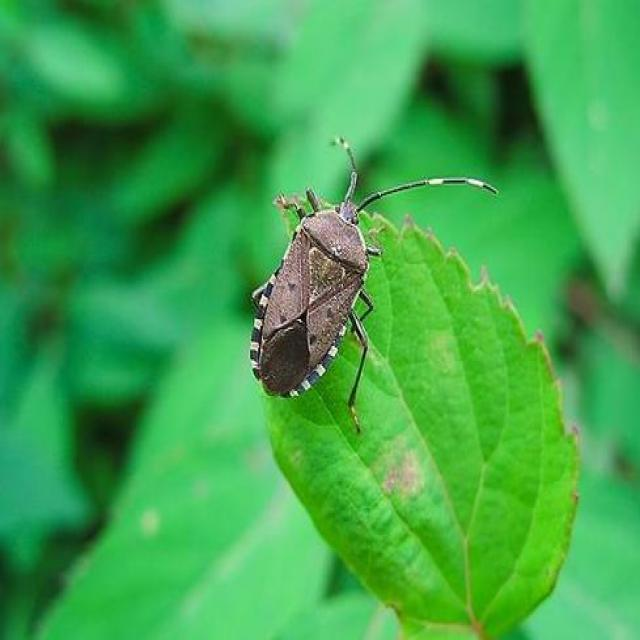Miridae-Adult-: (240, 106, 498, 433)
